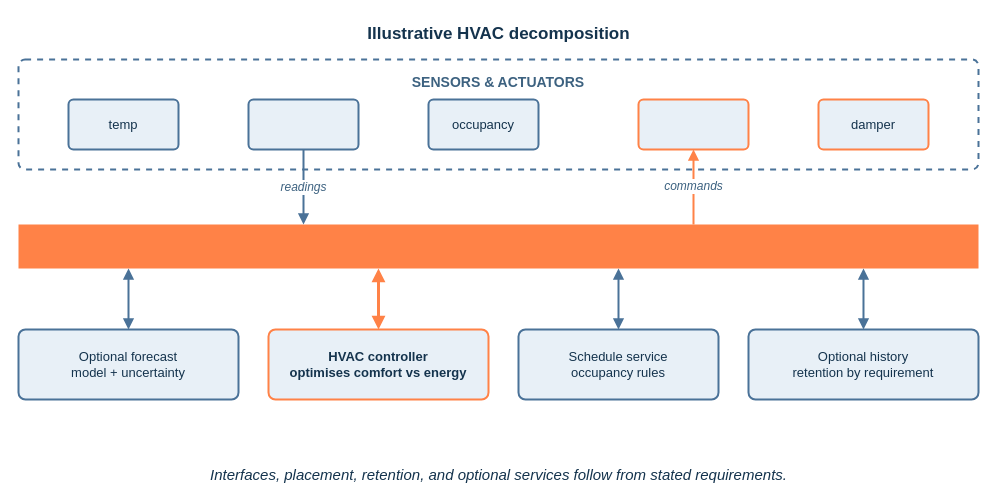
This 996x504 diagram has some shape labels left out. Here are the shapes that lost their labels. From the top down, the centre of each, then its label:
the point at 303,124: CO₂
the point at 693,124: fan
the point at 498,246: OPTIONAL EVENT CHANNEL — direct APIs are also possible
